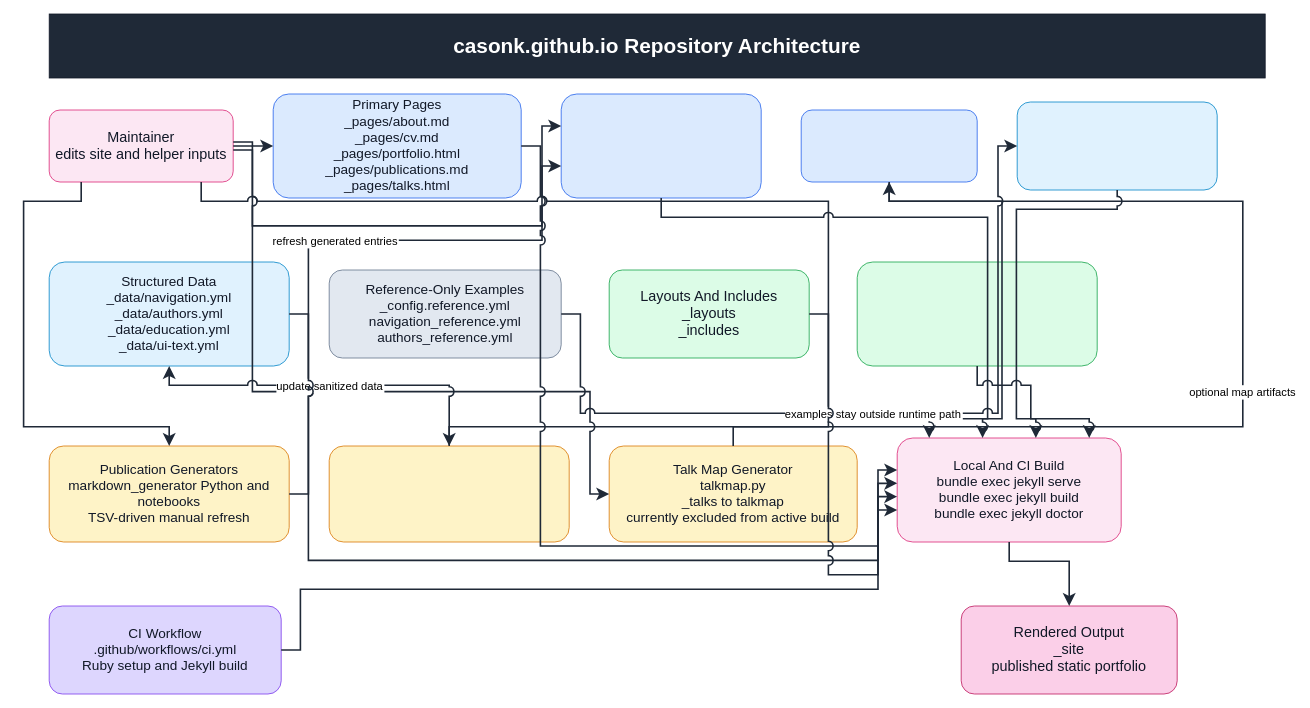
Image size: 1310x708. Some labels were removed from this diagram. The shapes that lost their labels are listed below. From the top down, each one's centre as x and y in pixels, then its label:
At (x=660, y=145): "Collections _portfolio _publications _talks _teaching _posts".
At (x=888, y=145): "Static Assets images files".
At (x=1116, y=145): "Active Config _config.yml _config.dev.yml".
At (x=976, y=313): "Theme And Frontend Assets _sass assets package.json JS minification path".
At (x=448, y=493): "Education Extractor scripts/extract_education.py private_data to sanitized YAML".
